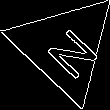N_NW: (32, 16, 97, 79)
